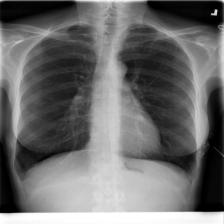normal: (12, 17, 199, 187)
